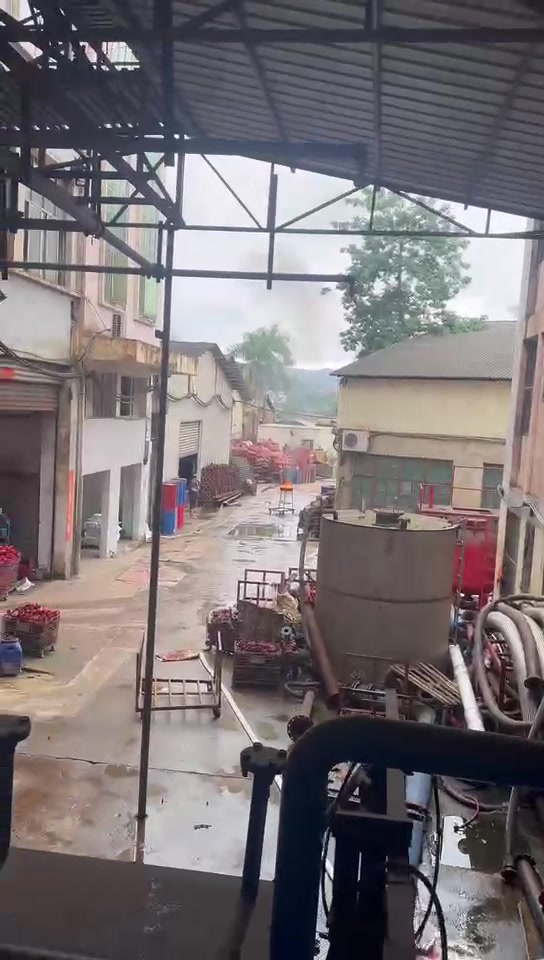fire: (280, 480, 292, 488)
